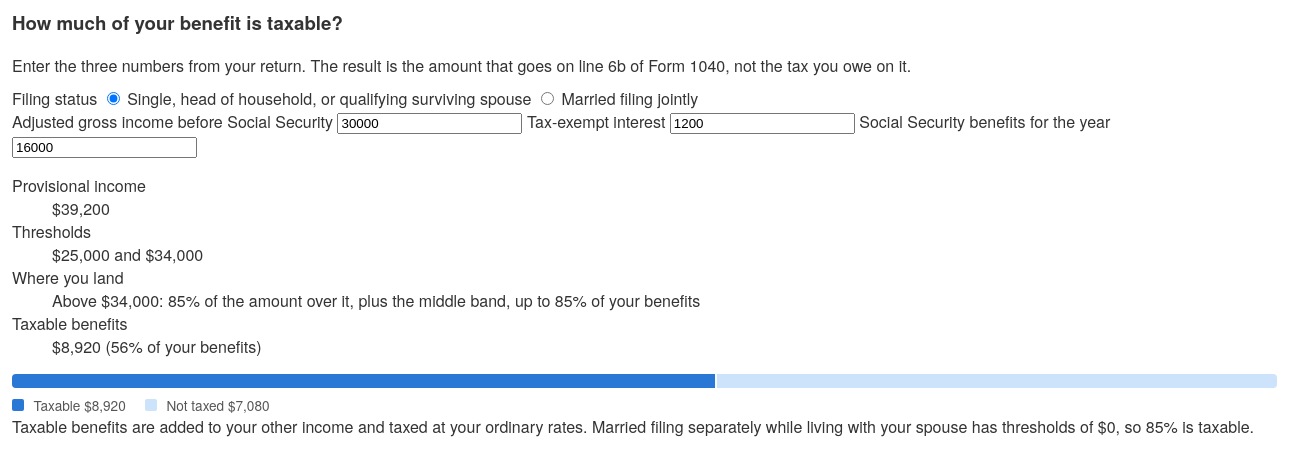
Test: TaxableBenefitsCalculator › switches thresholds and result for a joint return
The width and height of the screenshot is (1292, 454).
Step 1. Click the radio button labelled "Married filing jointly" → {"x": 548, "y": 99}, box 541,92 -> 554,105
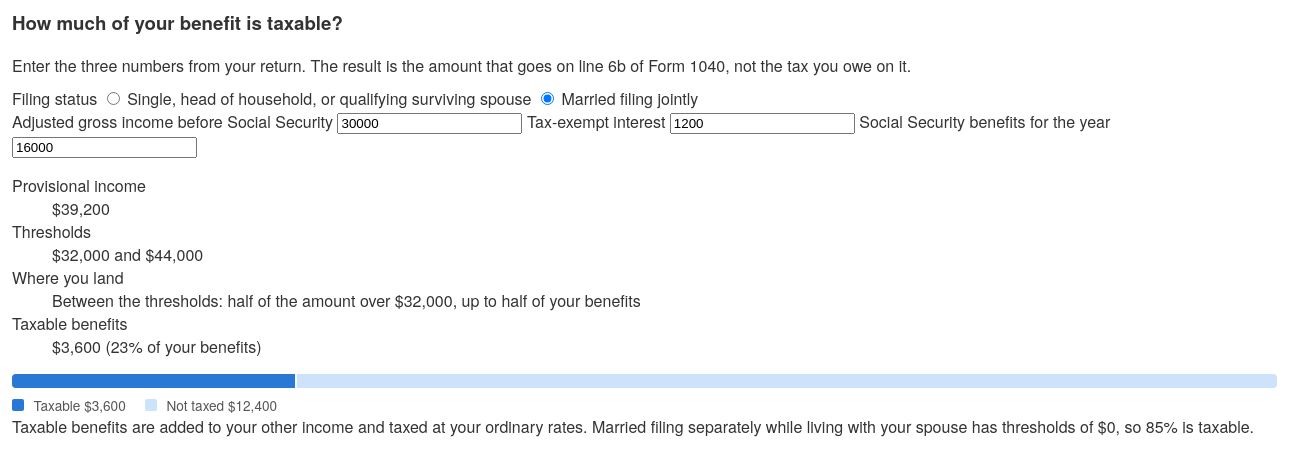
expect the element with class "widget-results" shows "$32,000": met, box 52,243 -> 203,266
expect the element with class "widget-results" shows "$44,000": met, box 52,243 -> 203,266
expect the element with class "widget-results" shows "$3,600": met, box 52,335 -> 105,358
